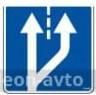road_sign: (2, 5, 95, 94)
